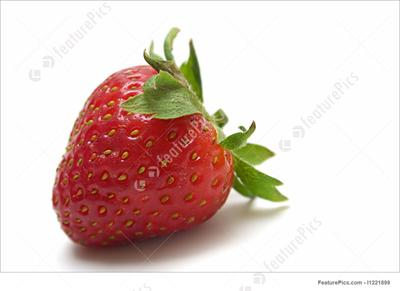strawberry: (0, 0, 400, 291)
